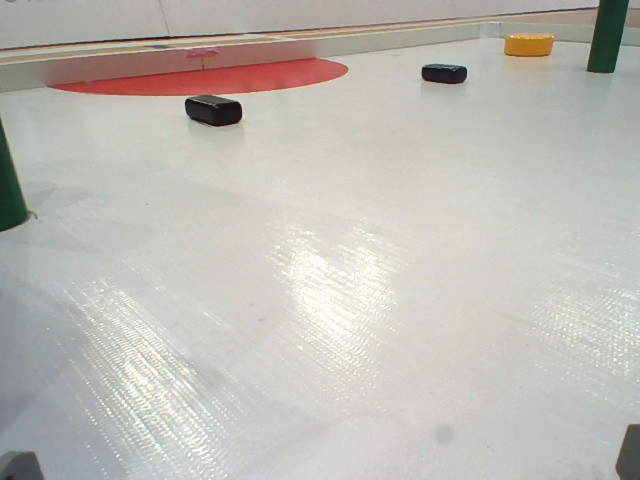black: (184, 91, 241, 124), (421, 63, 468, 84)
yellow: (502, 32, 555, 56)
zhuzi: (1, 108, 32, 238), (584, 1, 631, 75)
